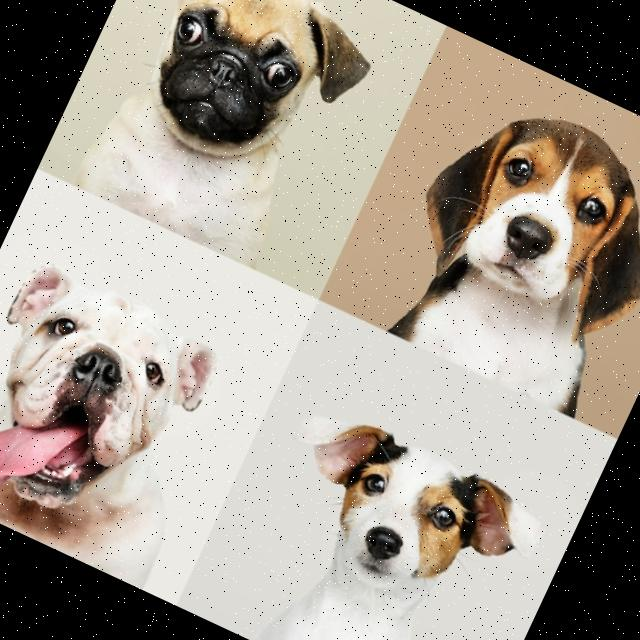Dog: (367, 80, 640, 421), (65, 0, 386, 276), (0, 243, 251, 590), (215, 399, 552, 640)
